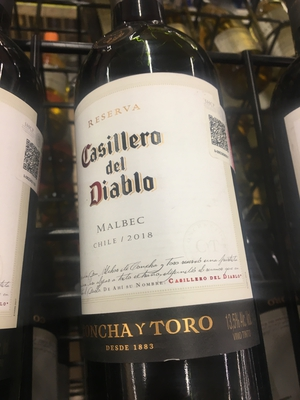casillero del diablo malbec: (65, 14, 273, 400)
